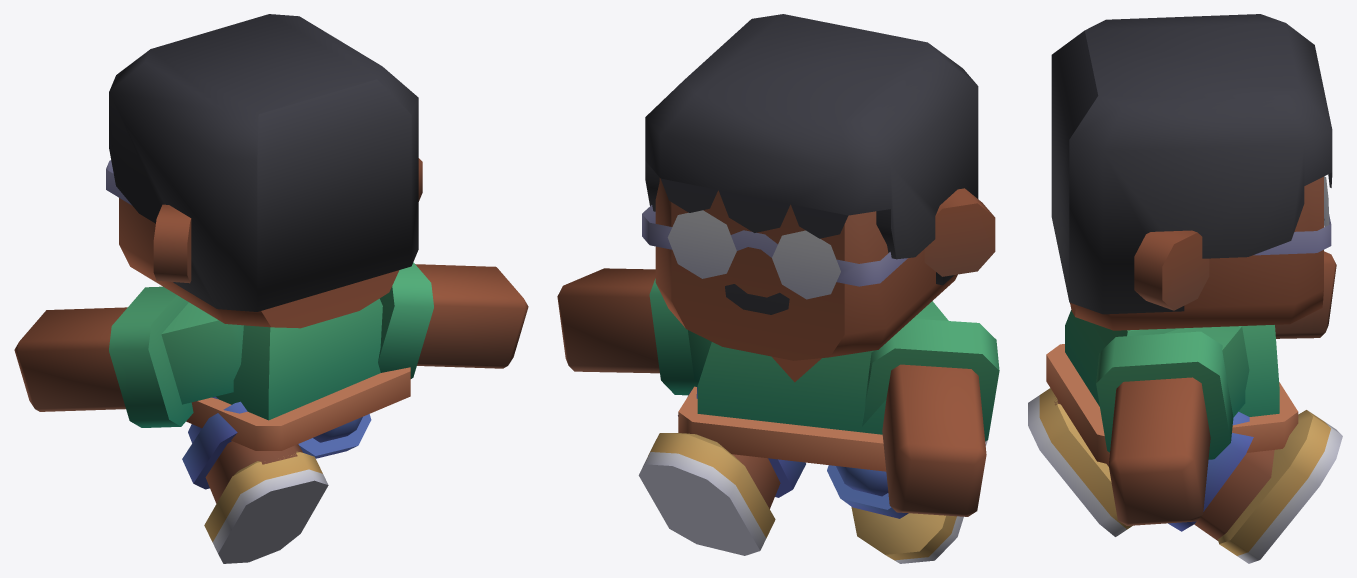
File: hand_0_w3.fbx
3 views of the same model, side by side, from view 1: azimuth 30°, elevation 25°; view 2: azimuth 150°, elevation 25°; view 3: azimuth 270°, elevation 25° (orthographic). The views are drawn at different scales.
Parts seen in each view (by area): view 1: body-mesh; view 2: body-mesh; view 3: body-mesh.
Part boxes in pixels (<box>): body-mesh: <box>14,14,528,563</box>; body-mesh: <box>557,14,999,563</box>; body-mesh: <box>1028,14,1342,563</box>.
Size of the model in its own units: 0.9907 by 1 by 0.5751.
